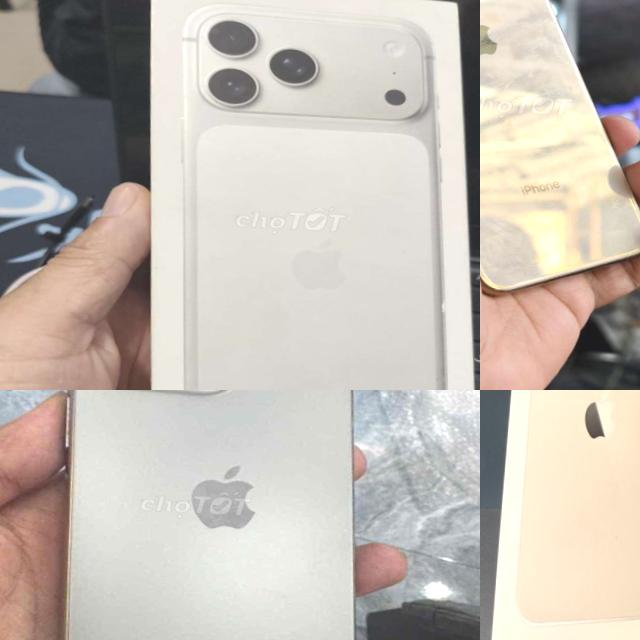gen_15: (26, 390, 402, 640)
gen_17: (157, 0, 480, 390)
gen_x_xs: (480, 0, 640, 293)
